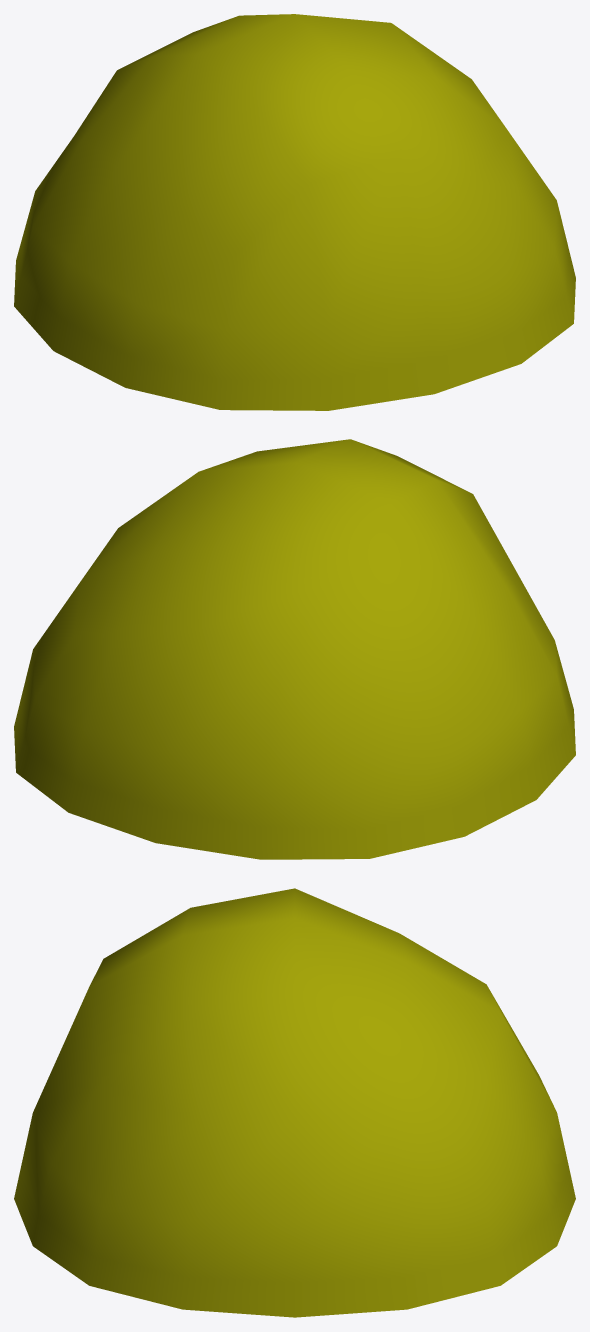
The model's file is Haypile.fbx.
3 renders of one model, top to bottom at view 1: azimuth 30°, elevation 25°; view 2: azimuth 150°, elevation 25°; view 3: azimuth 270°, elevation 25°, orthographic.
Visible parts, largest first — view 1: pCube170; view 2: pCube170; view 3: pCube170.
Boxes of the visible parts, x1,y1,x2,y2 form: pCube170: (14,14,575,410); pCube170: (14,439,575,859); pCube170: (14,888,575,1317).
Size of the model in its own units: 7.81 by 4.3 by 7.81.
